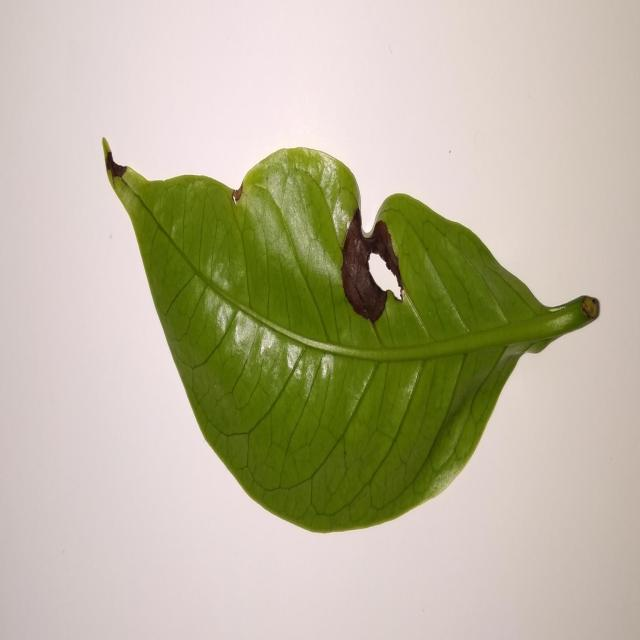Enfermedad-Antracnosis: (102, 141, 602, 536)
